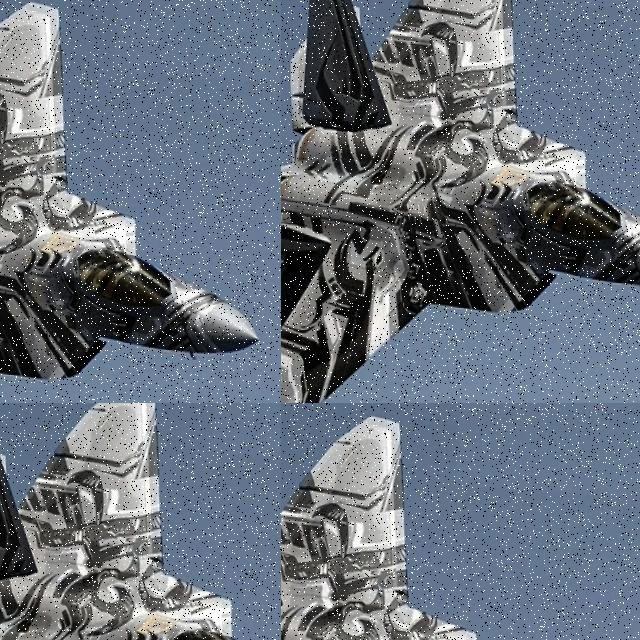A380: (281, 30, 640, 403)
F22: (281, 403, 613, 640), (0, 403, 281, 640), (0, 202, 281, 403)
